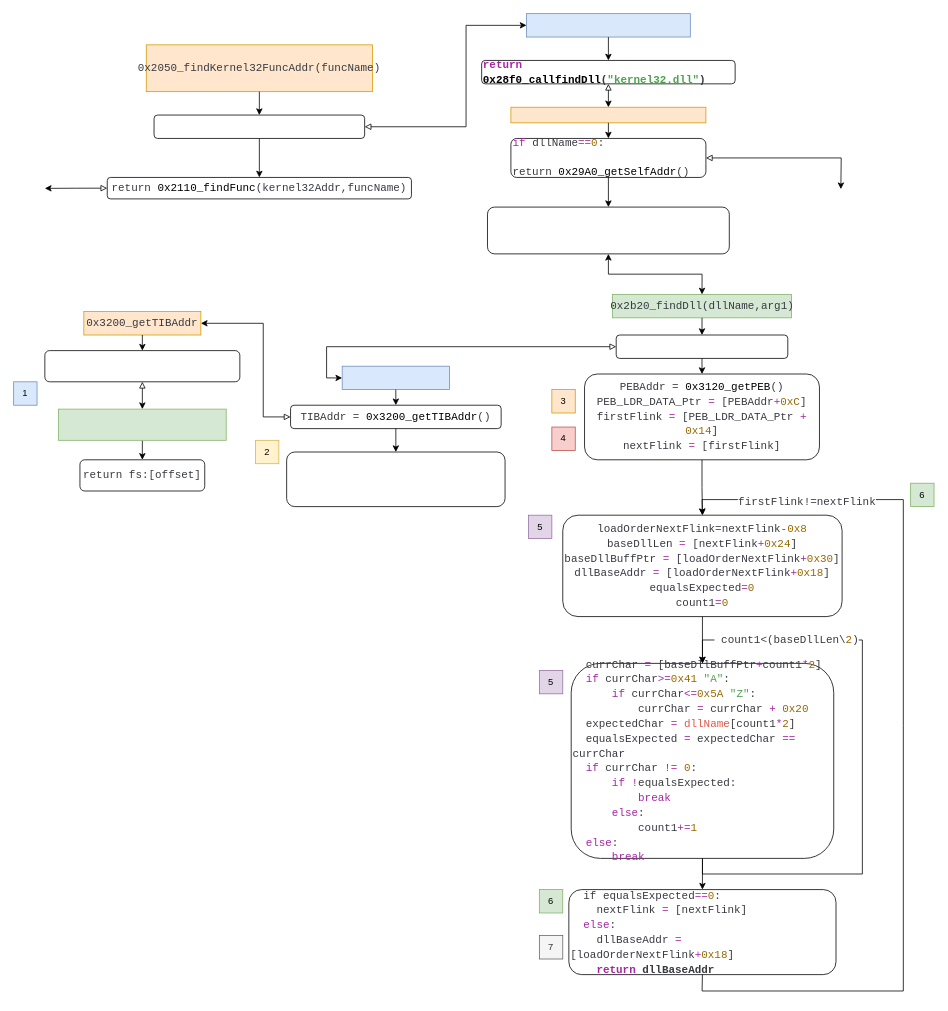
Image size: 948x1011. Some labels were removed from this diagram. Each missing label, with the box of its shape:
0x2880_findKernel32: (526, 13, 690, 37)
0x28f0_callfindDll (dllName): (510, 106, 706, 123)
0x3120_getPEB: (341, 365, 449, 390)
0x3220_getFSOffset(offset): (58, 408, 226, 440)
else : return 0x2b20_findDll (dllName, 0 ): (487, 206, 729, 254)
kernel32Addr = 0x2880_findKernel32 (): (153, 114, 365, 138)
PEBAddr = 0x3120_getPEB (): (615, 334, 788, 358)
return 0x3220_getFSOffset ( 0x18 ): (44, 350, 240, 382)
TIB_PEB_Ptr = [TIBAddr + 0x30 ] return [TIB_PEB_Ptr]: (286, 451, 505, 507)
